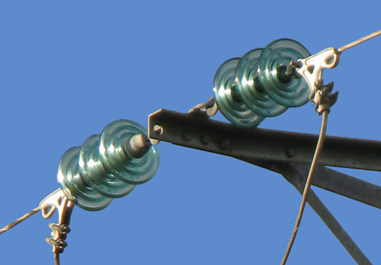isolator: (56, 119, 160, 213), (213, 38, 315, 130)
